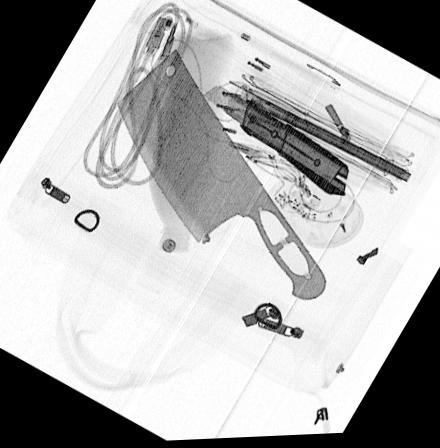Knife: (115, 50, 325, 302), (199, 87, 348, 200)
